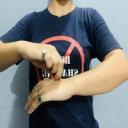hand: (19, 40, 64, 82), (24, 76, 72, 114)
